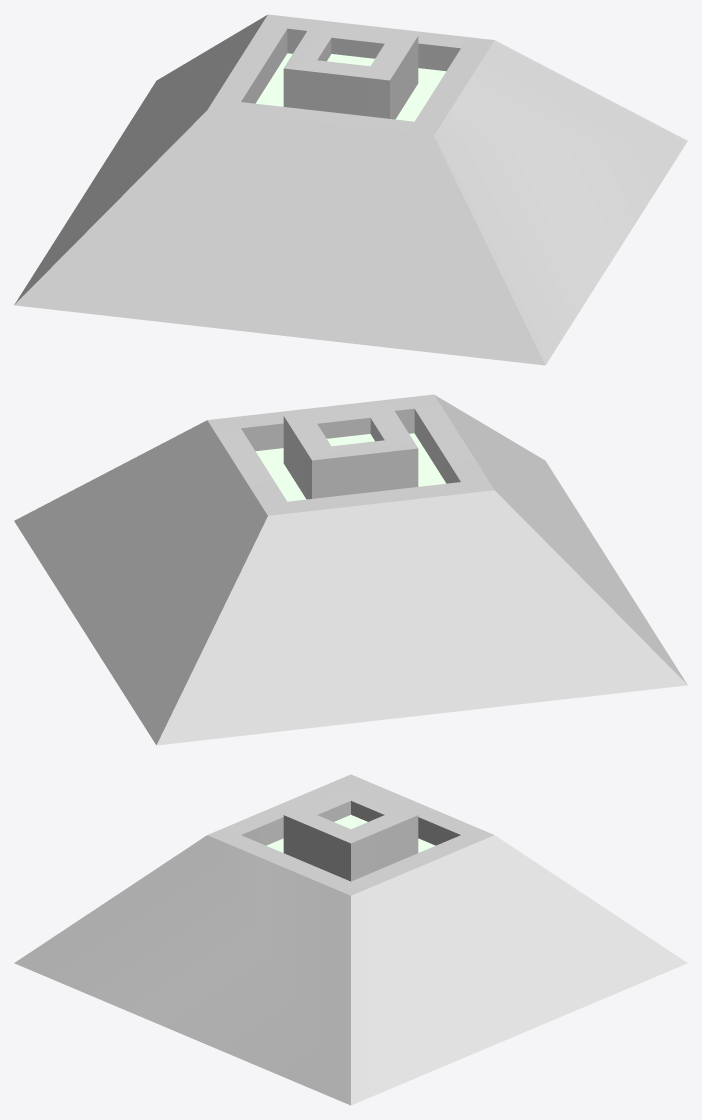
Rendered from scifiPickupHealthBase.glb.
The picture shows the model from 3 angles, top to bottom: view 1: azimuth 30°, elevation 25°; view 2: azimuth 150°, elevation 25°; view 3: azimuth 270°, elevation 25°; orthographic projection. The views are drawn at different scales.
Parts seen in each view (by area): view 1: scifiHealthBase; view 2: scifiHealthBase; view 3: scifiHealthBase.
Boxes of the visible parts, x1,y1,x2,y2 form: scifiHealthBase: (14, 14, 687, 365); scifiHealthBase: (14, 394, 687, 745); scifiHealthBase: (14, 774, 687, 1105).
Bounding box in the file's own units: 0.5791 × 0.1405 × 0.5791.
Materials: 2 (1 with a texture image).
